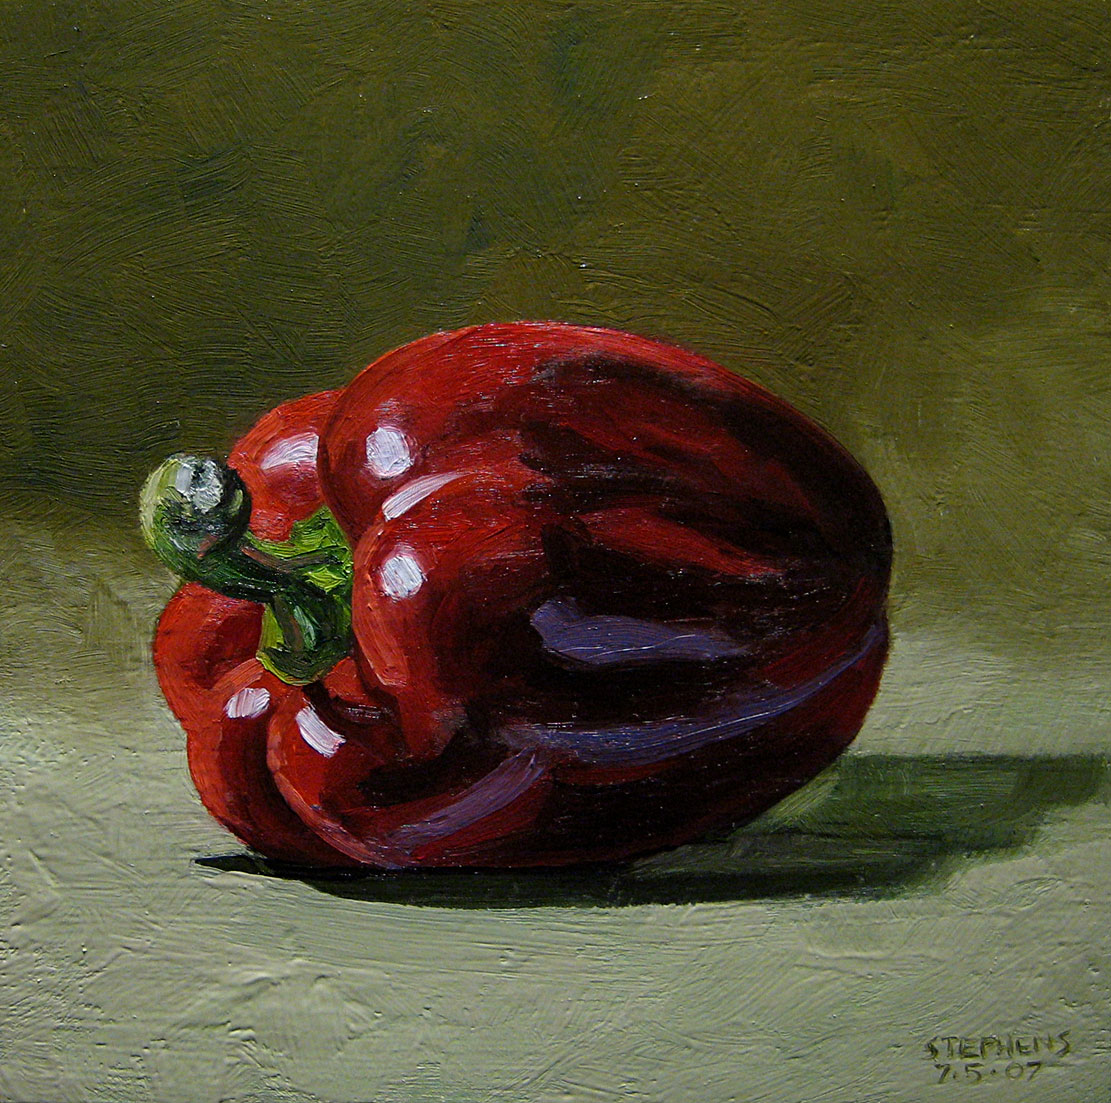capsicum: (135, 309, 895, 904)
